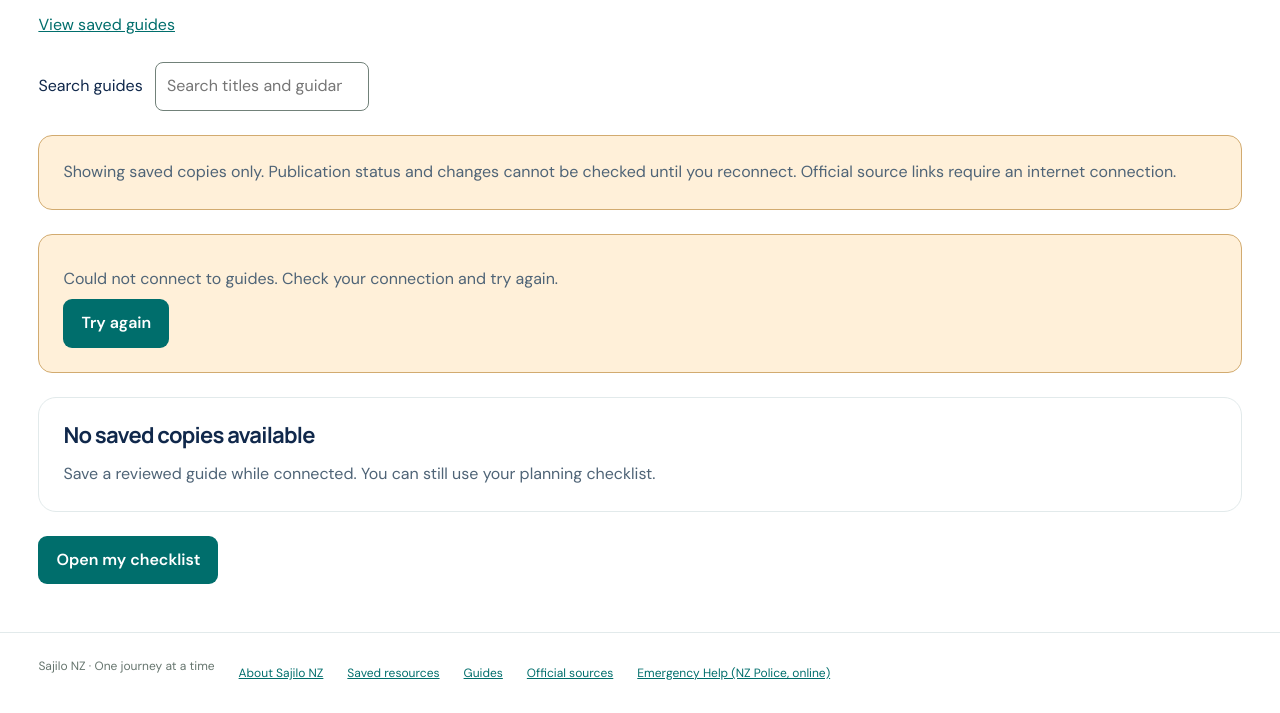
Test: recovers from an API failure on retry
(page scrolled)
Expected: the message shows "Could not connect", [63,268,558,289]
Step 1. Click the button "Try again" → (116, 324), box [63,300,169,348]
(page scrolled)
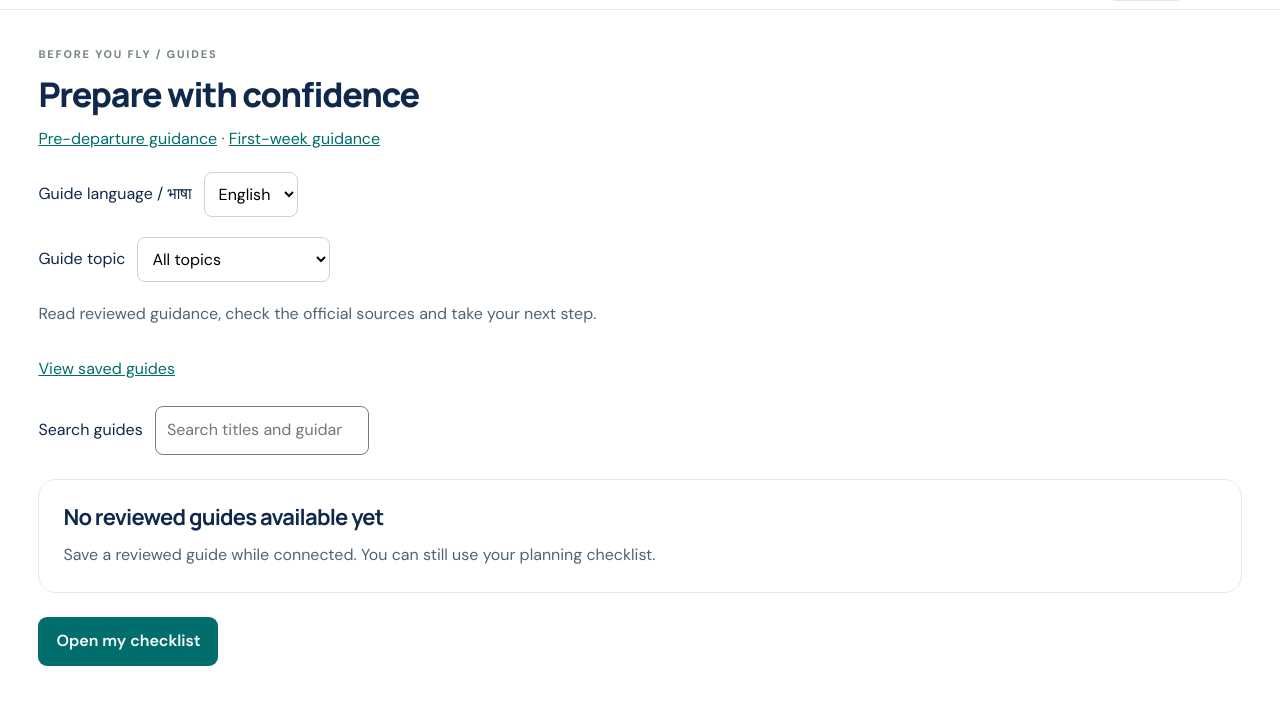
Now the heading "No reviewed guides available yet" is shown, box [63,502,384,532]
